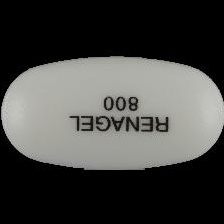53808-0777: (0, 0, 224, 224)
